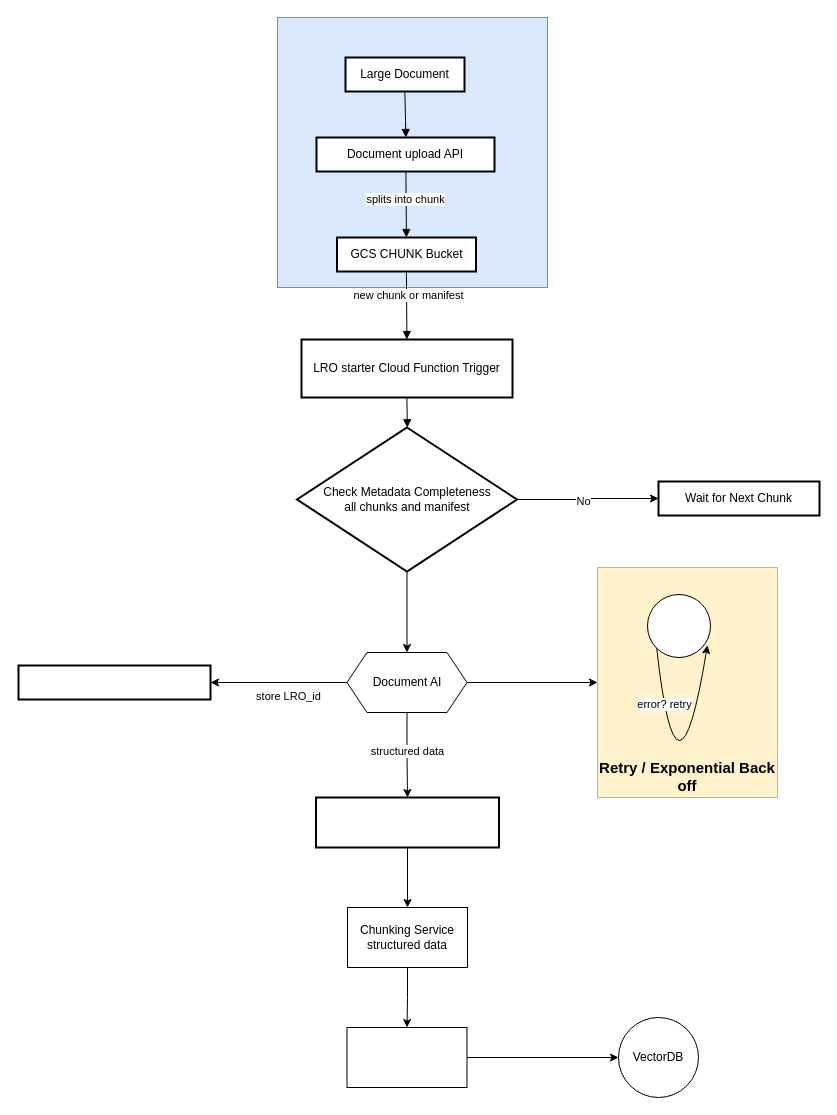
This 837x1115 diagram has some shape labels left out. The box of each missing label's shape, as (x1, y1, x2, y2) in pixels:
Document upload with chunks: (276, 16, 548, 288)
Embedding Service: (346, 1026, 467, 1088)
GCS Output_Bucket/Structured_data/: (314, 796, 500, 848)
OUTPUT_BUCKET/metadata/: (17, 664, 211, 700)
start_LRO: (646, 594, 710, 658)
